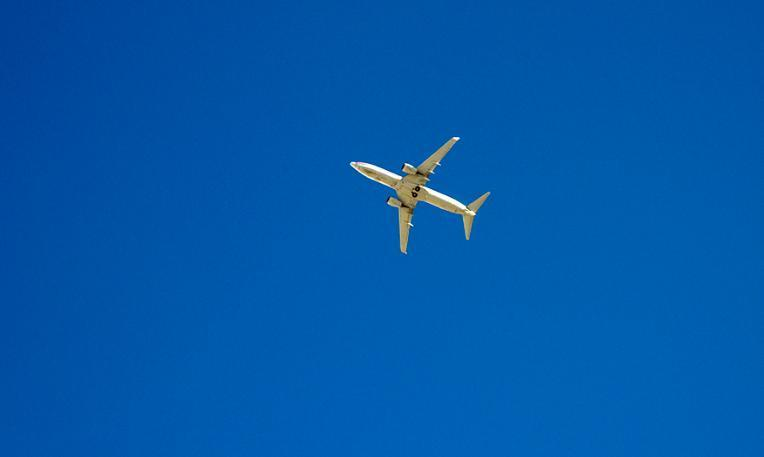aircraft: (349, 135, 490, 256)
